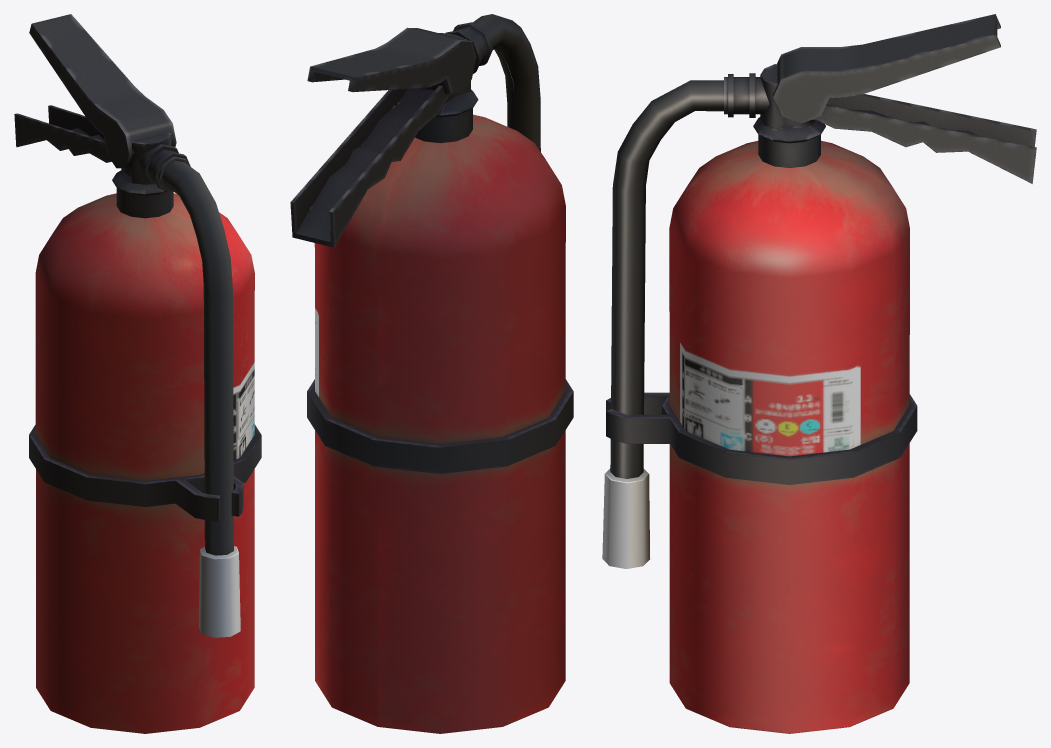
File: tool_Fireex_Dp.fbx
3 views of the same model, side by side, from view 1: azimuth 30°, elevation 25°; view 2: azimuth 150°, elevation 25°; view 3: azimuth 270°, elevation 25° (orthographic). The views are drawn at different scales.
Visible parts, largest first — view 1: FireEx_DP; view 2: FireEx_DP; view 3: FireEx_DP.
Part boxes in pixels (left/top/right/bottom): FireEx_DP: left=14, top=14, right=261, bottom=733; FireEx_DP: left=290, top=14, right=573, bottom=733; FireEx_DP: left=602, top=14, right=1036, bottom=733.
Size of the model in its own units: 0.1874 by 0.5336 by 0.3188.
